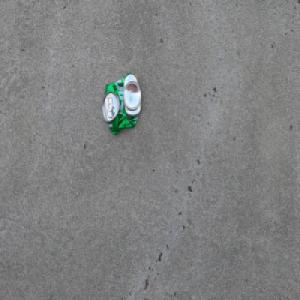SodaCan: (102, 71, 142, 136)
